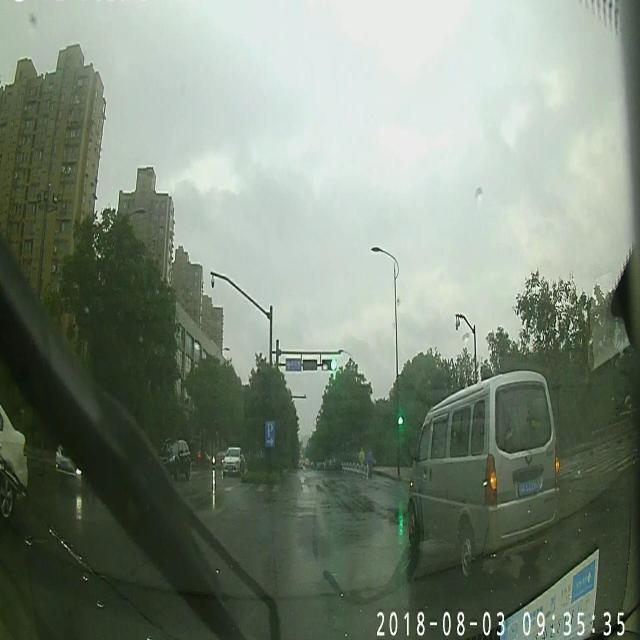car: (404, 373, 556, 564), (1, 406, 28, 517), (160, 436, 192, 474), (55, 446, 84, 476), (223, 446, 244, 478)
